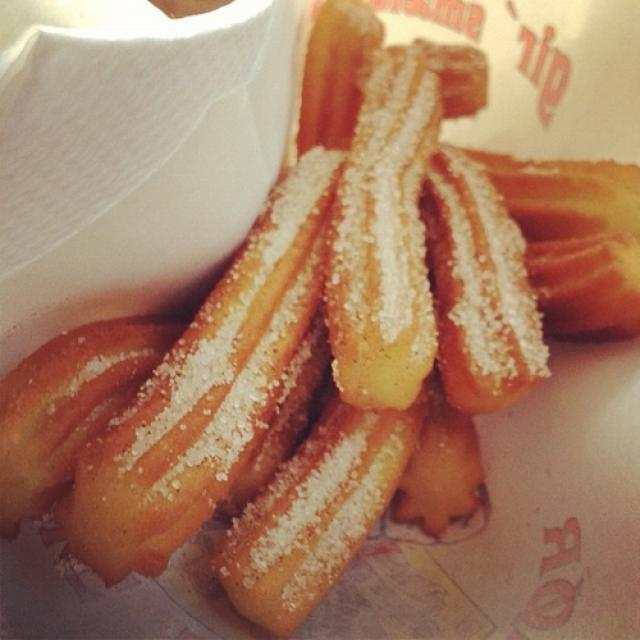炸货点心: (36, 18, 612, 618)
